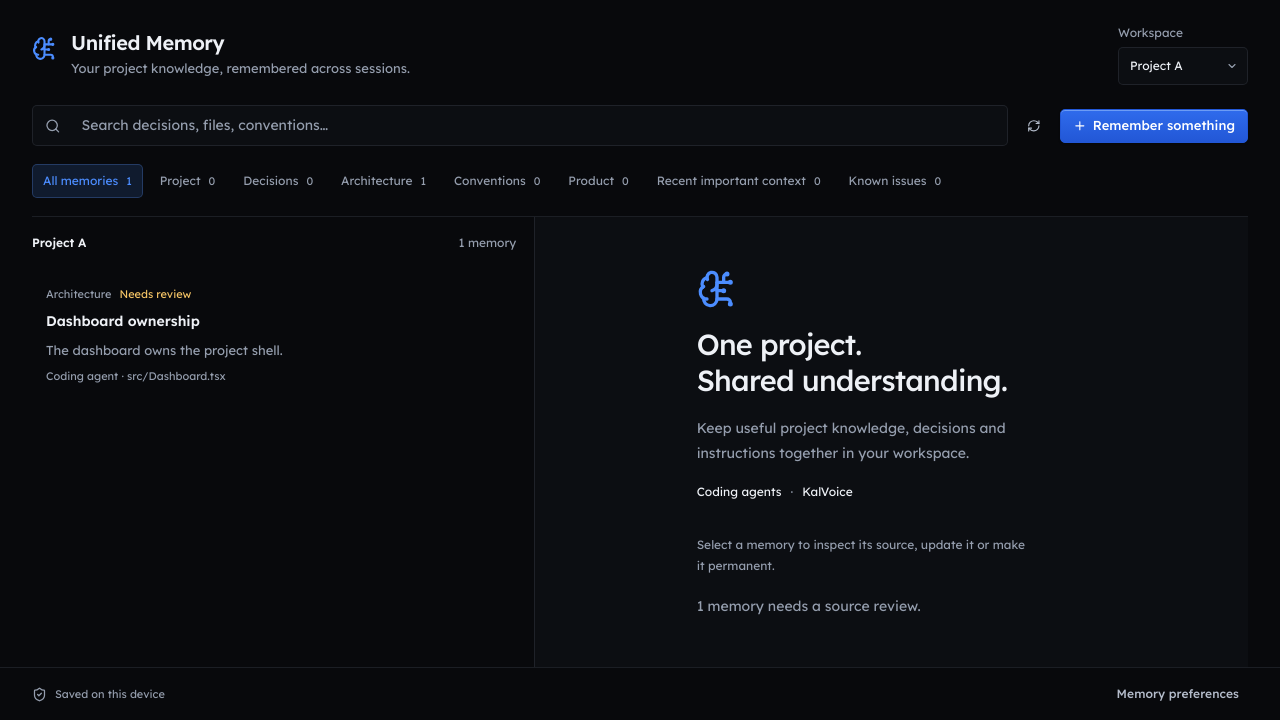
Unified Memory › refreshes in the background without clearing an error or disabling controls
Click the button "Dashboard ownership": (79, 294) x1=32 y1=269 x2=518 y2=402
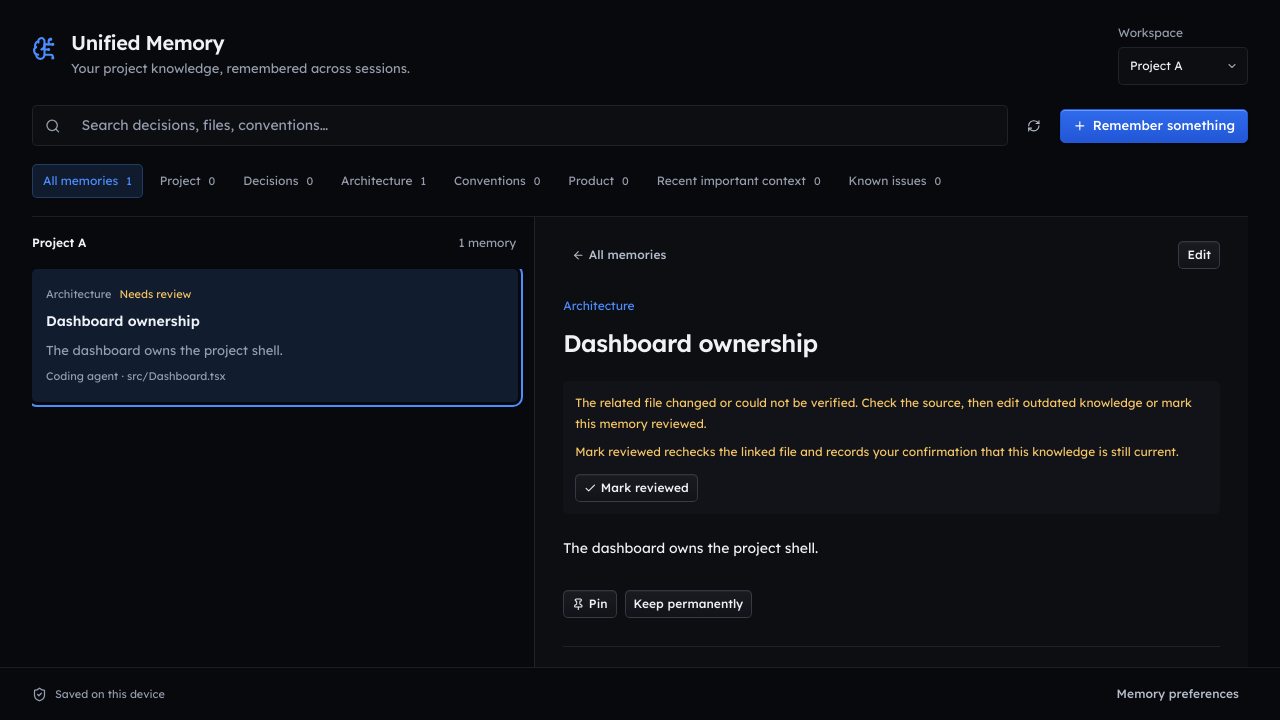
Click the button "Mark reviewed": (637, 488) x1=575 y1=474 x2=698 y2=502
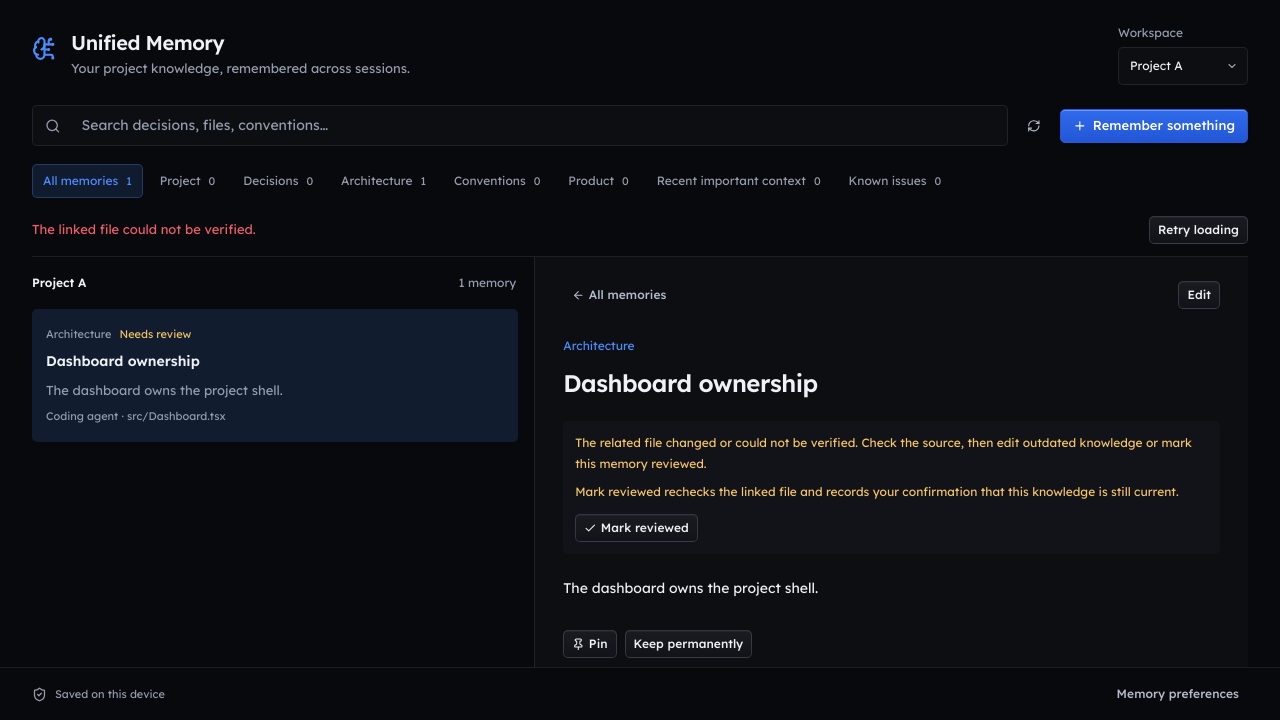
Expected: the button "Remember something" is enabled, x1=1060 y1=108 x2=1248 y2=142
Result: the button "Mark reviewed" is enabled at x1=575 y1=514 x2=698 y2=542
Result: the message shows "The linked file could not be verified." at x1=32 y1=221 x2=256 y2=237
